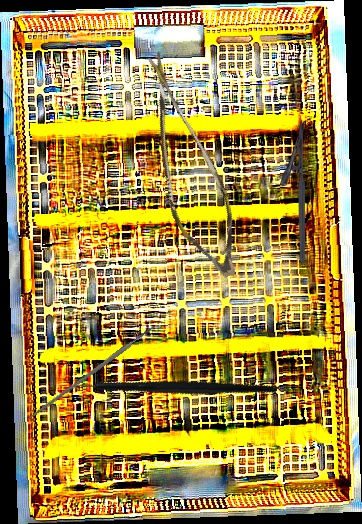Chopper: (56, 312, 279, 471)
Micro Scissor: (95, 47, 275, 286)
Needle Holder: (280, 119, 306, 264)
Scalpel Handle: (27, 325, 156, 421)
